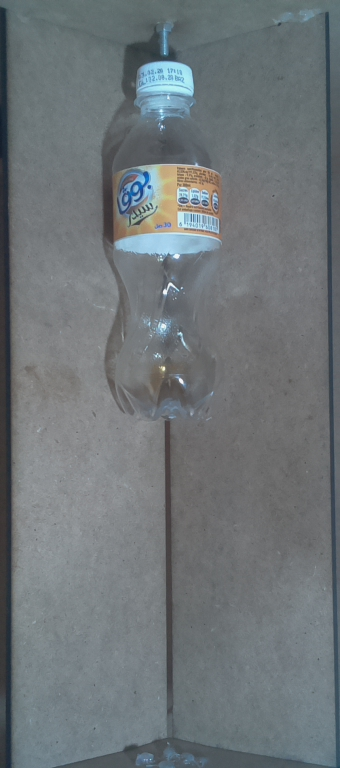Bouteille_0.3L: (104, 51, 231, 432)
